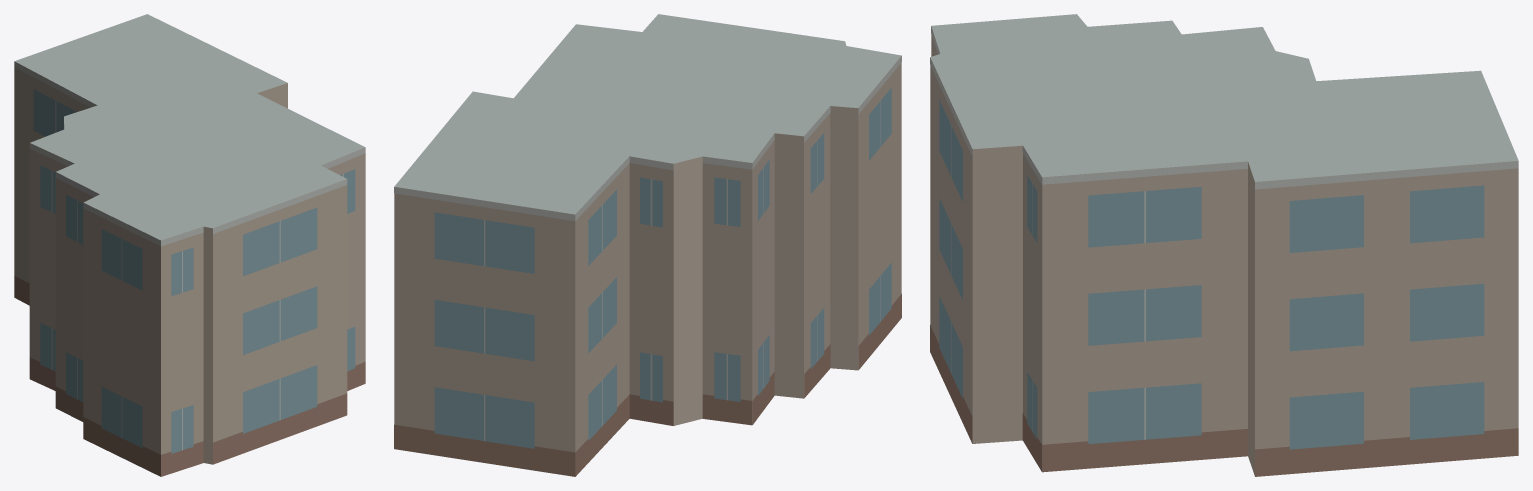
File: survey-upis-32624299.glb
3 renders of one model, left to right at view 1: azimuth 30°, elevation 25°; view 2: azimuth 150°, elevation 25°; view 3: azimuth 270°, elevation 25°, orthographic. The views are drawn at different scales.
Parts seen in each view (by area): view 1: survey-upis-32624299.tmp; view 2: survey-upis-32624299.tmp; view 3: survey-upis-32624299.tmp.
Part boxes in pixels (x1,y1,x2,y2): survey-upis-32624299.tmp: [14, 14, 365, 476]; survey-upis-32624299.tmp: [394, 14, 901, 476]; survey-upis-32624299.tmp: [930, 14, 1518, 476].
Size of the model in its own units: 11.87 by 9.7 by 17.56.
